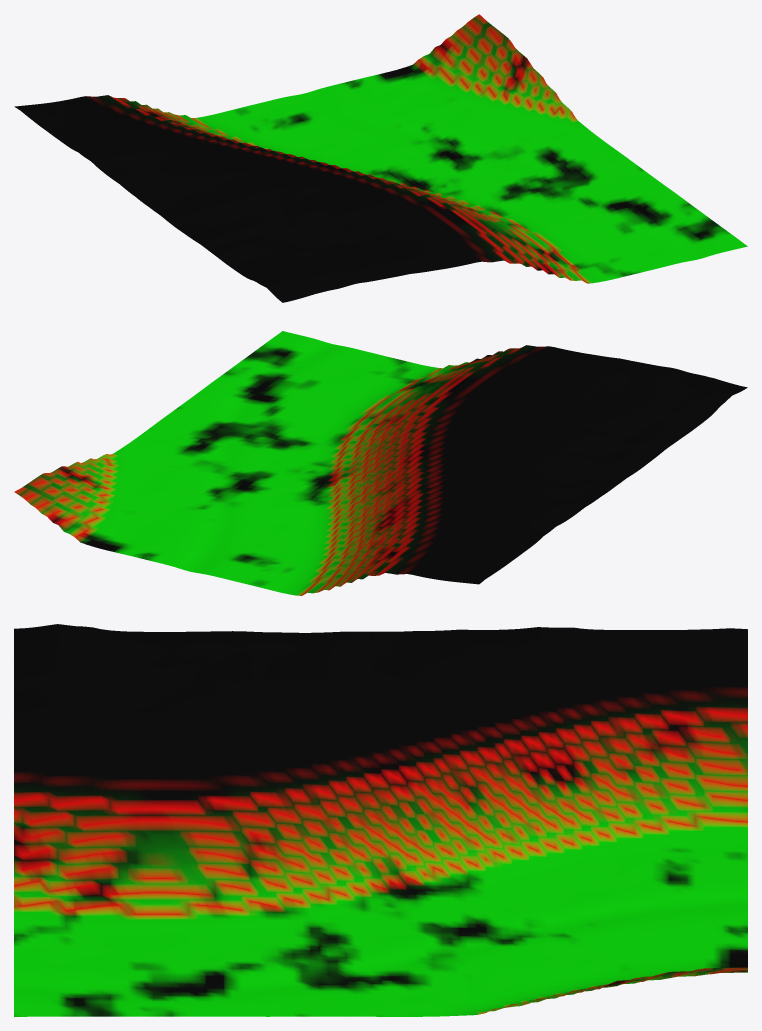
File: SM_RiyadhNights_Terrain_3_0.fbx
The picture shows the model from 3 angles, top to bottom: view 1: azimuth 30°, elevation 25°; view 2: azimuth 150°, elevation 25°; view 3: azimuth 270°, elevation 25°; orthographic projection. The views are drawn at different scales.
Visible parts, largest first — view 1: SM_RiyadhNights_Terrain_3_0; view 2: SM_RiyadhNights_Terrain_3_0; view 3: SM_RiyadhNights_Terrain_3_0.
Part boxes in pixels (left/top/right/bottom): SM_RiyadhNights_Terrain_3_0: left=14, top=14, right=747, bottom=302; SM_RiyadhNights_Terrain_3_0: left=14, top=331, right=747, bottom=595; SM_RiyadhNights_Terrain_3_0: left=14, top=624, right=747, bottom=1016.
Bounding box in the file's own units: 50400 × 6416 × 50400.
